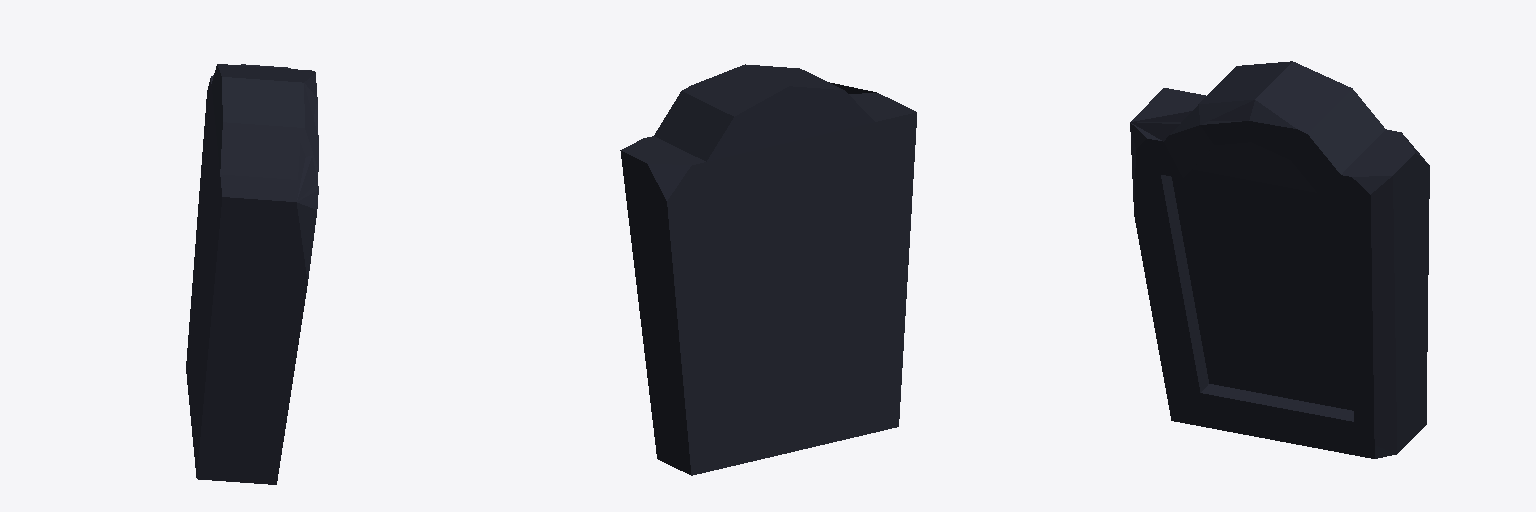
The model's file is grave.obj.
The picture shows the model from 3 angles: view 1: azimuth 30°, elevation 25°; view 2: azimuth 150°, elevation 25°; view 3: azimuth 270°, elevation 25°; orthographic projection.
Parts seen in each view (by area): view 1: Gravestone.001; view 2: Gravestone.001; view 3: Gravestone.001.
Part boxes in pixels (x1,y1,x2,y2): Gravestone.001: (186, 64, 318, 484); Gravestone.001: (620, 64, 916, 475); Gravestone.001: (1130, 61, 1429, 458).
Bounding box in the file's own units: 1.05 × 1.91 × 1.43.